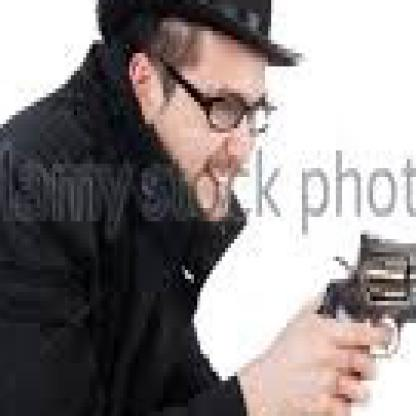gun: (308, 204, 413, 412)
